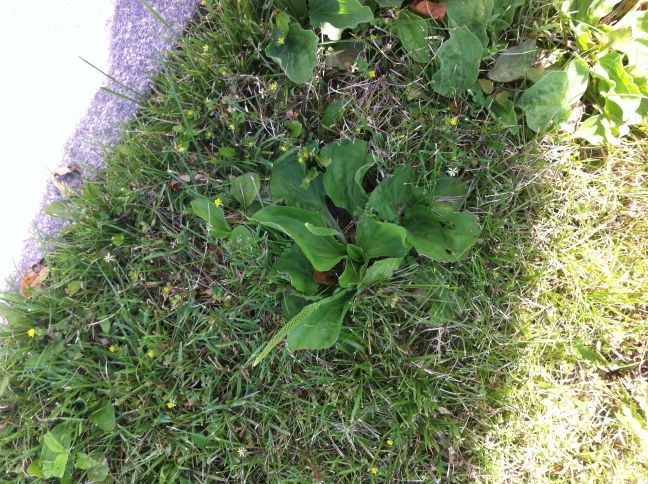weed1: (216, 128, 482, 360), (256, 1, 501, 104), (498, 1, 644, 133)
